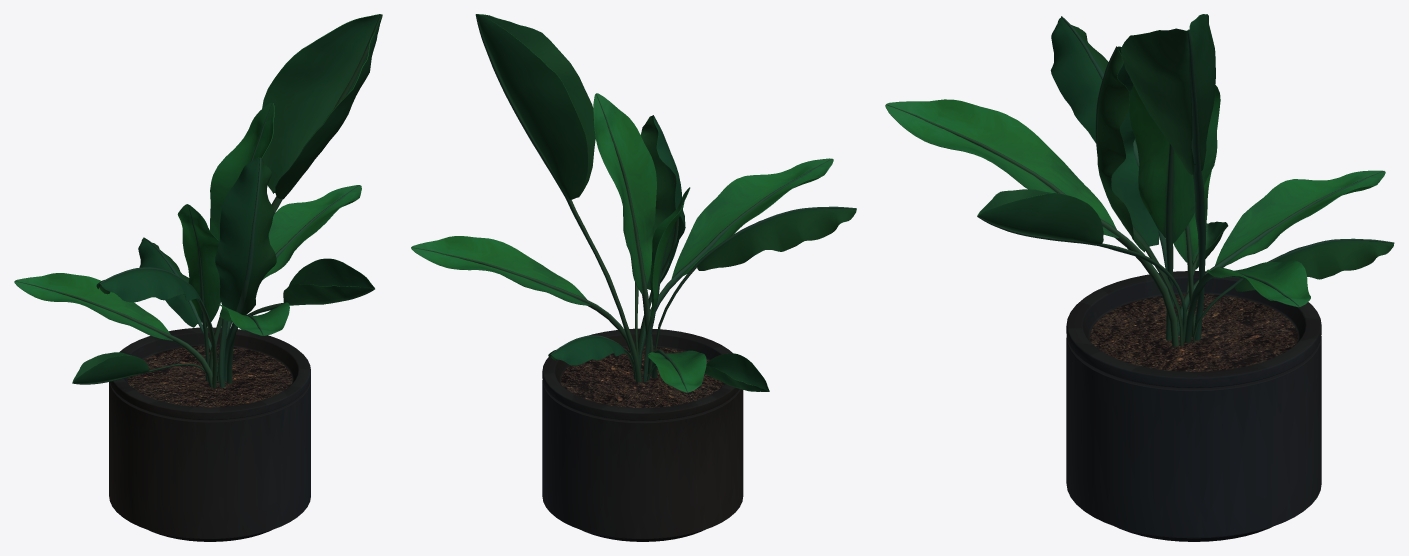
File: bael_tree.glb
3 views of the same model, side by side, from view 1: azimuth 30°, elevation 25°; view 2: azimuth 150°, elevation 25°; view 3: azimuth 270°, elevation 25° (orthographic). The views are drawn at different scales.
Parts seen in each view (by area): view 1: office_plant.1; view 2: office_plant.1; view 3: office_plant.1.
Boxes of the visible parts, x1,y1,x2,y2 form: office_plant.1: (14,14,382,541); office_plant.1: (411,14,856,541); office_plant.1: (885,14,1394,541).
Size of the model in its own units: 0.5494 by 0.6705 by 0.5402.
1 material, 1 textured.
